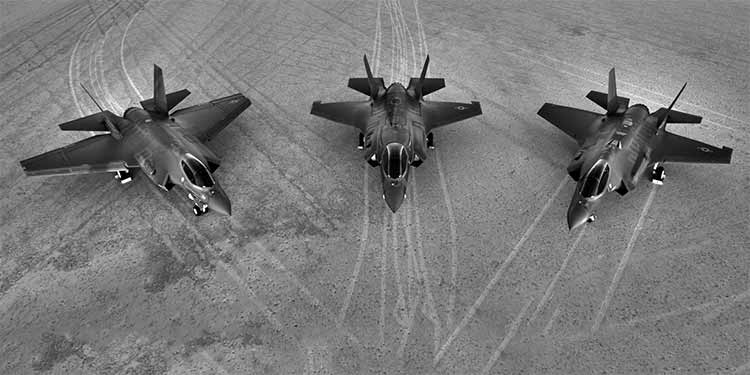F-35 Lightning: (31, 57, 281, 258), (538, 47, 720, 264), (311, 54, 482, 223)
